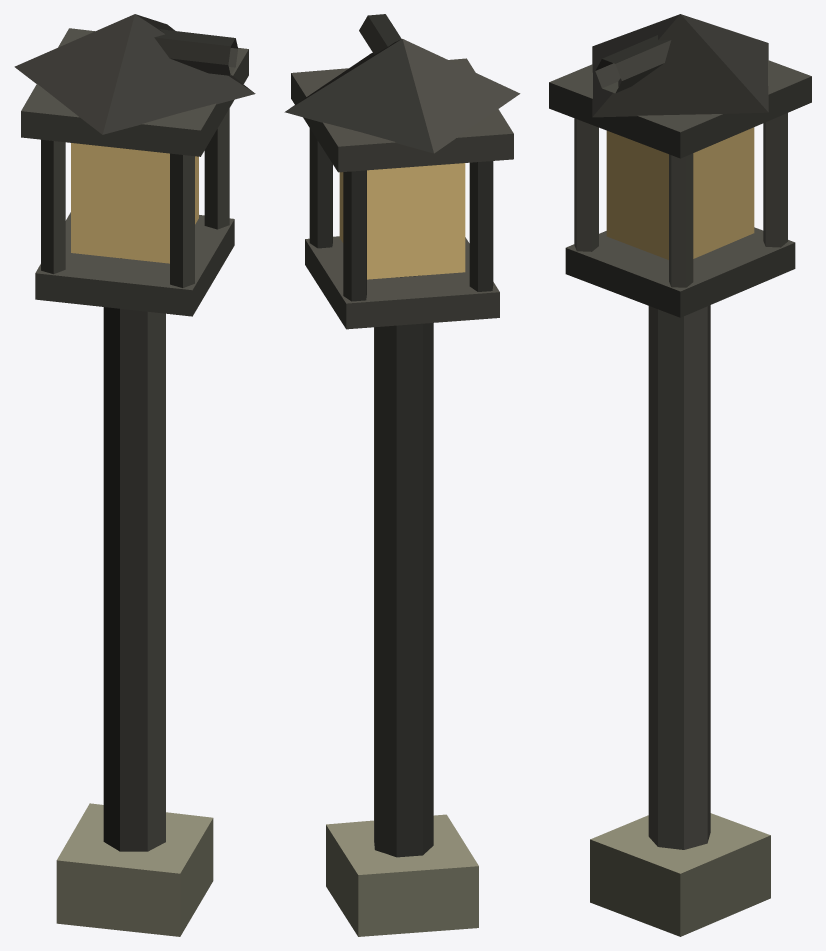
3 views of the same model, side by side, from view 1: azimuth 30°, elevation 25°; view 2: azimuth 150°, elevation 25°; view 3: azimuth 270°, elevation 25° (orthographic). The views are drawn at different scales.
Visible parts, largest first — view 1: 06fa7f004ee58309016b9e3ef431aa330889d8a5c7c6b9c983e078f07c4b; view 2: 06fa7f004ee58309016b9e3ef431aa330889d8a5c7c6b9c983e078f07c4b; view 3: 06fa7f004ee58309016b9e3ef431aa330889d8a5c7c6b9c983e078f07c4b.
Part boxes in pixels (x1=…): 06fa7f004ee58309016b9e3ef431aa330889d8a5c7c6b9c983e078f07c4b: x1=14, y1=14, x2=255, y2=936; 06fa7f004ee58309016b9e3ef431aa330889d8a5c7c6b9c983e078f07c4b: x1=284, y1=14, x2=520, y2=936; 06fa7f004ee58309016b9e3ef431aa330889d8a5c7c6b9c983e078f07c4b: x1=549, y1=14, x2=811, y2=936.
Size of the model in its own units: 0.9051 by 3.38 by 0.9051.
2 materials, 1 textured.
